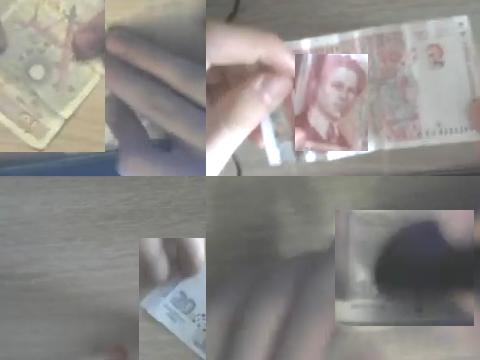10leva: (335, 210, 474, 326), (0, 0, 105, 152)
20leva: (139, 264, 206, 360)
5leva: (295, 54, 368, 151)
